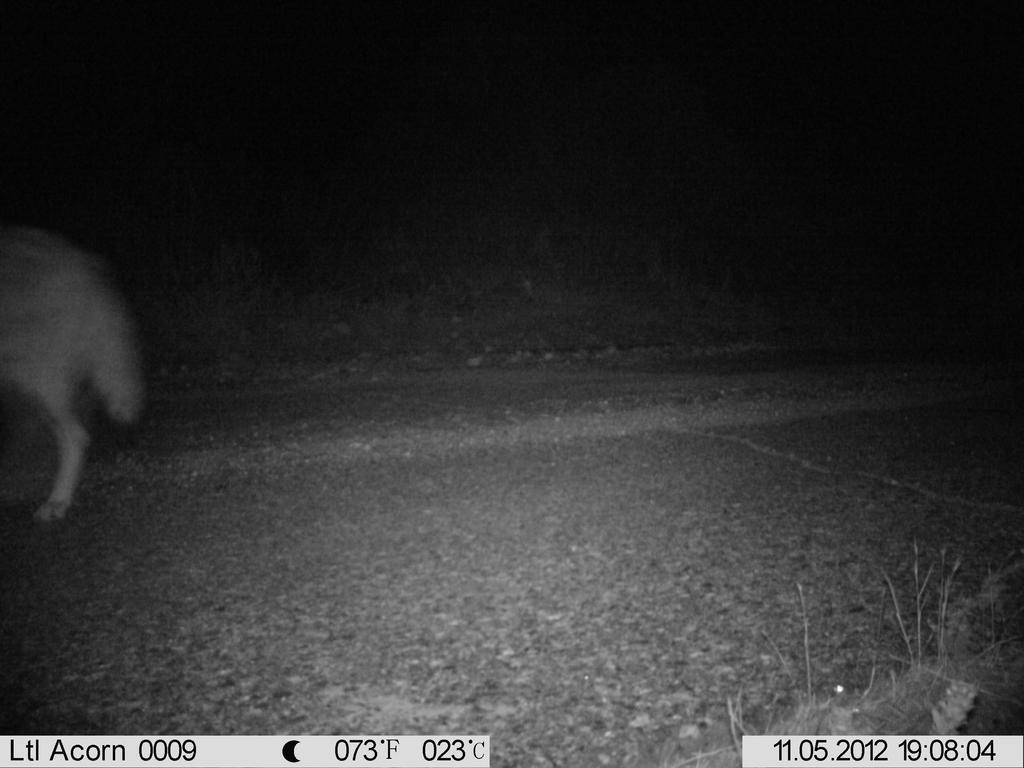coyote: (1, 213, 155, 527)
